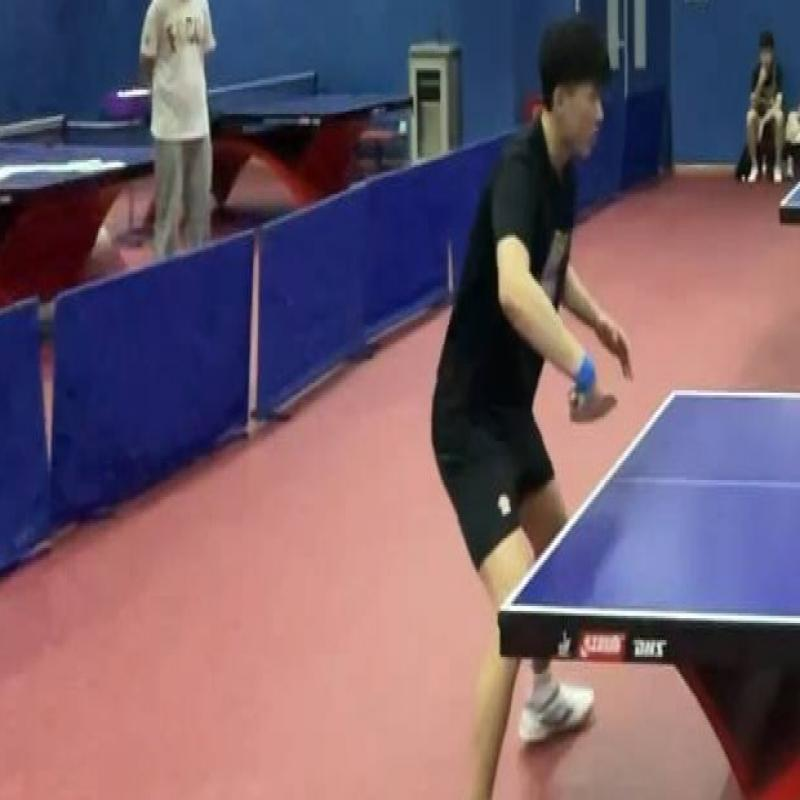bats: (557, 371, 626, 441)
